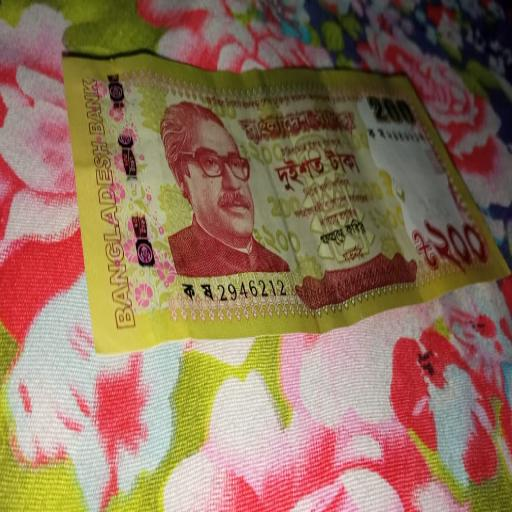200taka: (63, 45, 509, 345)
